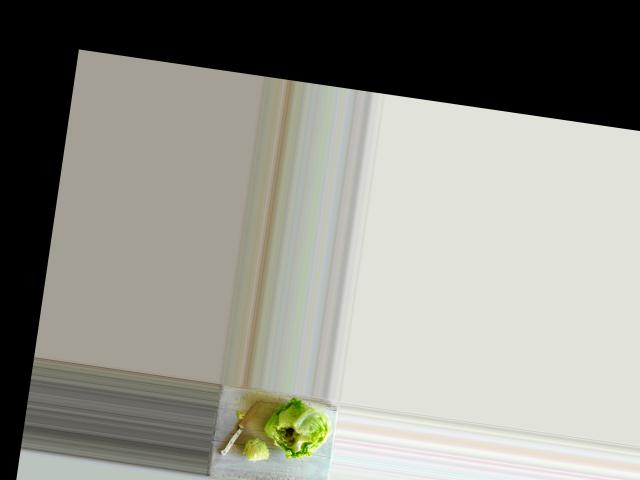lettuce: (267, 398, 337, 463)
